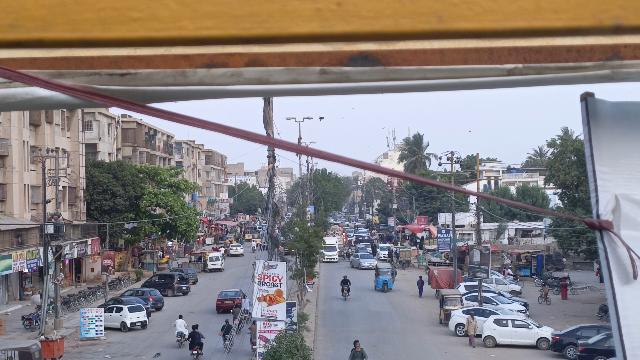Bike: (188, 343, 204, 360), (175, 330, 187, 351), (223, 331, 234, 353), (233, 317, 244, 333), (341, 284, 351, 301), (250, 339, 258, 355)
Car: (480, 312, 553, 350), (548, 322, 610, 359), (448, 305, 506, 335), (462, 293, 527, 315), (100, 304, 148, 332), (138, 272, 191, 297), (96, 298, 153, 318), (574, 330, 611, 360), (122, 287, 164, 310), (214, 289, 245, 312), (349, 253, 377, 269)
Person: (464, 310, 480, 347), (188, 322, 204, 344), (415, 274, 426, 299), (350, 343, 365, 360), (222, 316, 234, 337), (174, 313, 187, 332), (339, 272, 352, 288), (248, 321, 258, 339), (232, 304, 244, 318)
Rickshaw: (436, 288, 464, 326), (373, 262, 395, 292)
Truck: (321, 236, 339, 263)
Van: (206, 252, 226, 272)
